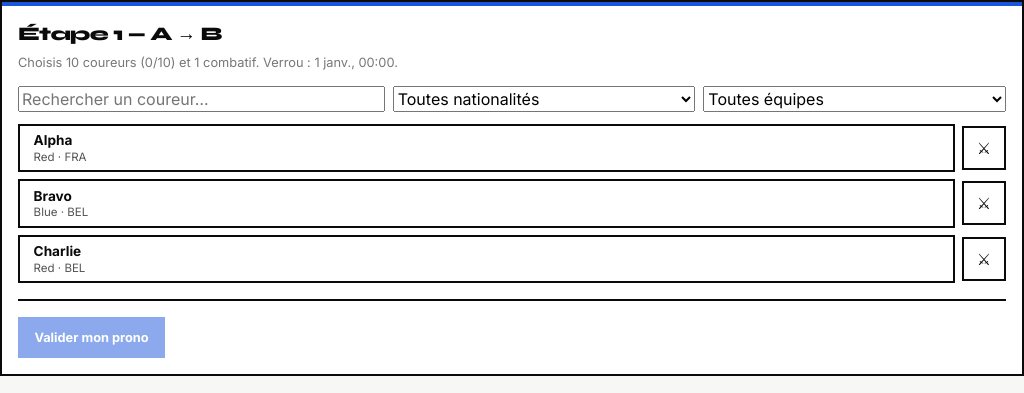
StagePrediction › filtre par nationalité
Check: the button "Alpha Red · FRA" is shown, box [18,124,955,172]
Select "BEL" in the dropdown named "filtrer par nationalité" at (544, 99), box [393,86,695,112]
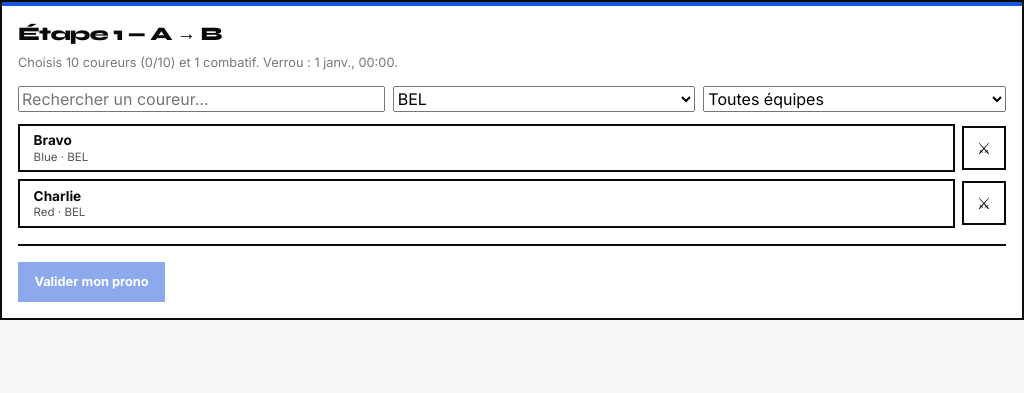
Check: the button "Bravo Blue · BEL" is shown, box [18,124,955,172]
Check: the button "Alpha" is gone
